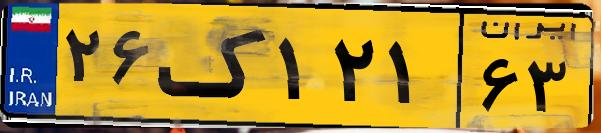1: (270, 28, 330, 110), (385, 28, 445, 110)
2: (330, 28, 385, 110), (57, 26, 110, 100)
3: (525, 38, 570, 115)
6: (475, 38, 525, 113), (110, 28, 158, 98)
ک: (158, 12, 270, 120)
